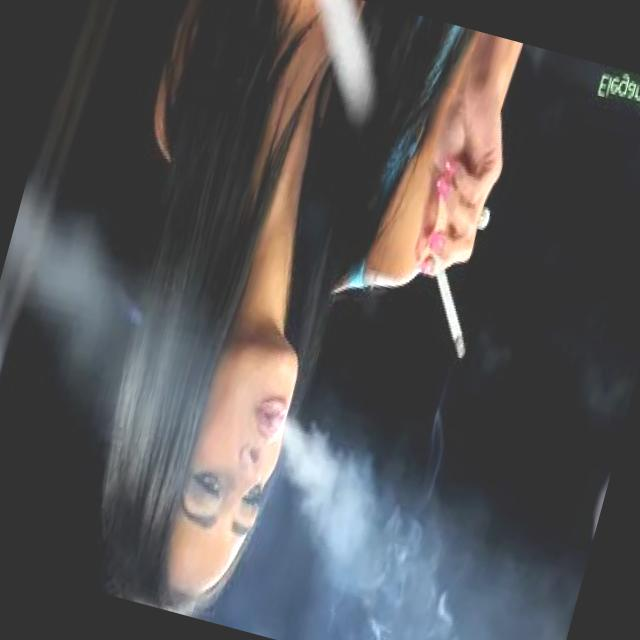smoke: (407, 264, 487, 366)
